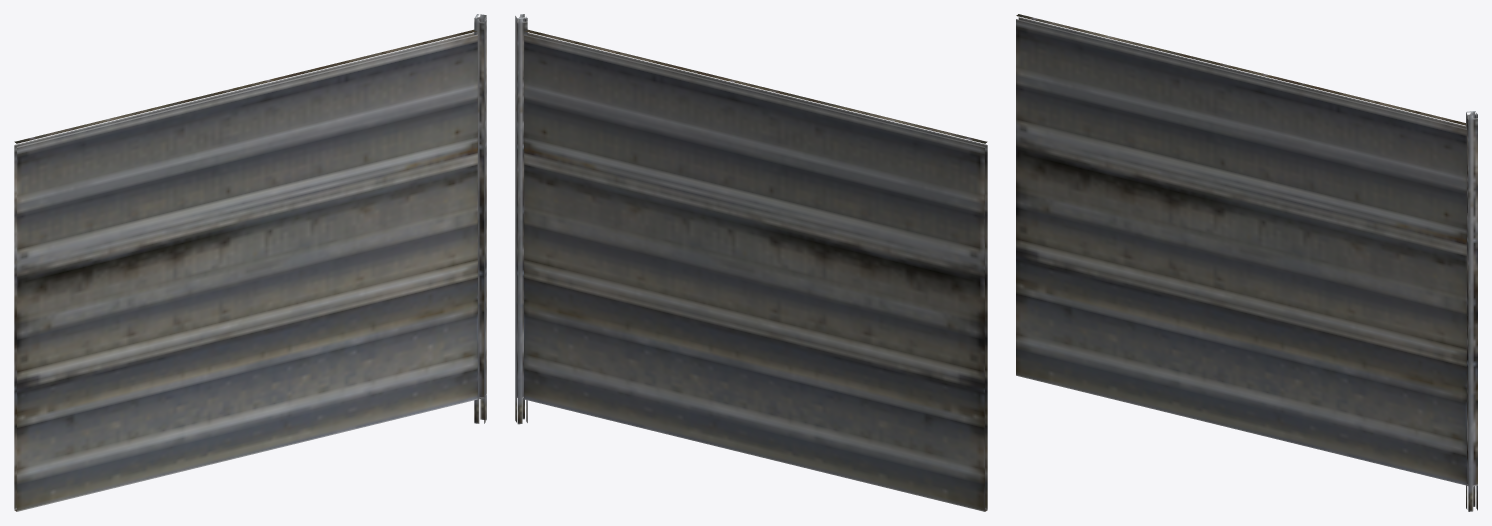
The model's file is Fence03Short.obj.
3 views of the same model, side by side, from view 1: azimuth 30°, elevation 25°; view 2: azimuth 150°, elevation 25°; view 3: azimuth 330°, elevation 25° (orthographic). The views are drawn at different scales.
Visible parts, largest first — view 1: Fence03, Fence03Pole; view 2: Fence03, Fence03Pole; view 3: Fence03, Fence03Pole.
Part boxes in pixels (left/top/right/bottom): Fence03: left=14, top=29, right=481, bottom=511; Fence03Pole: left=474, top=14, right=486, bottom=423; Fence03: left=523, top=29, right=987, bottom=511; Fence03Pole: left=515, top=14, right=527, bottom=424; Fence03: left=1016, top=14, right=1467, bottom=485; Fence03Pole: left=1466, top=111, right=1477, bottom=511.
Size of the model in its own units: 4.05 by 3.33 by 0.1061.
